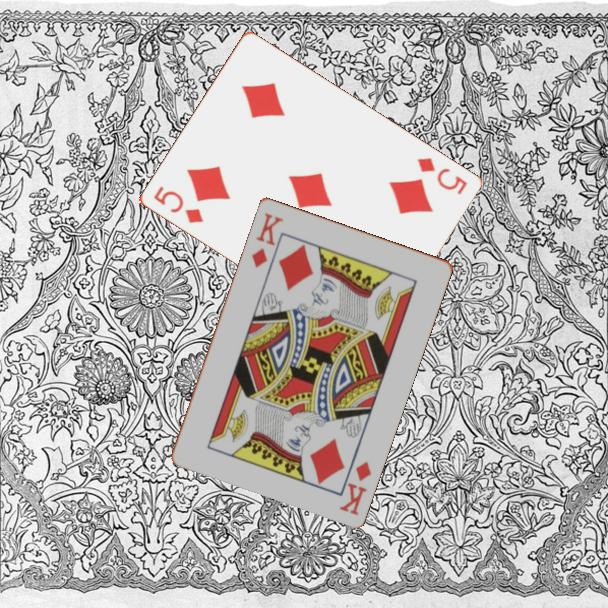d05: (413, 154, 470, 198), (150, 183, 206, 226)
d13: (248, 209, 286, 270), (336, 457, 374, 518)
